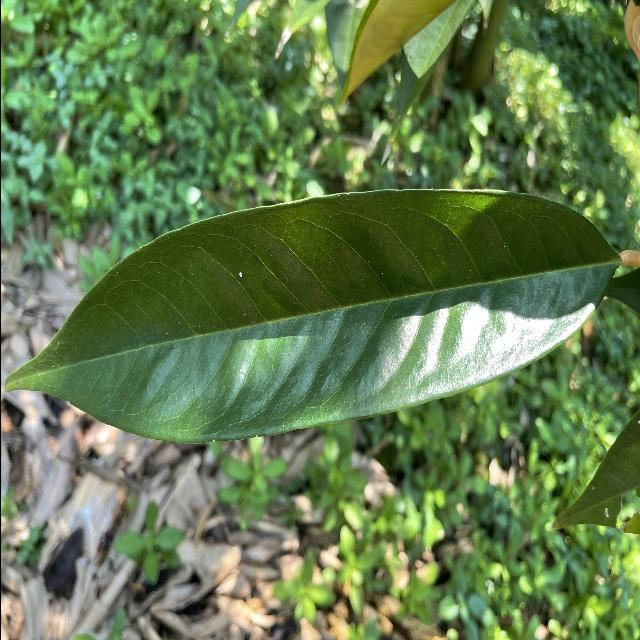No Disease: (0, 175, 621, 449)
